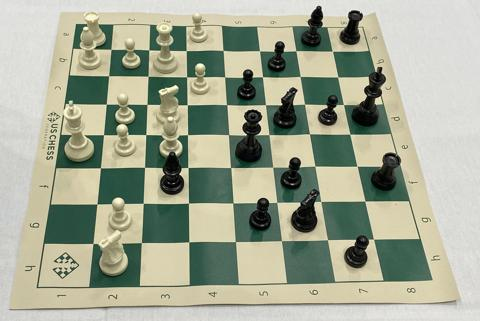xcorner: (259, 70, 270, 82), (101, 97, 112, 109), (95, 161, 106, 173), (319, 195, 330, 207), (329, 46, 340, 57), (293, 45, 304, 56), (256, 45, 267, 56), (219, 44, 230, 55), (182, 44, 193, 55), (144, 43, 155, 54), (106, 43, 117, 54), (335, 71, 346, 82), (297, 71, 308, 82), (221, 70, 232, 81), (182, 70, 193, 81), (143, 69, 154, 80), (103, 69, 114, 80), (341, 99, 352, 110), (302, 98, 313, 109), (263, 98, 274, 109), (223, 98, 234, 109), (183, 98, 194, 109), (142, 98, 153, 109), (347, 128, 358, 139), (307, 128, 318, 139), (266, 128, 277, 139), (225, 128, 236, 139), (183, 128, 194, 139), (141, 128, 152, 139), (98, 128, 109, 139), (354, 160, 365, 171), (313, 161, 324, 172), (270, 161, 281, 172), (227, 161, 238, 172), (184, 161, 195, 172), (140, 161, 151, 172), (362, 195, 373, 206), (274, 196, 285, 207), (230, 196, 241, 207), (184, 197, 195, 208), (138, 197, 149, 208), (92, 198, 103, 209), (371, 233, 382, 244), (325, 234, 336, 245), (279, 234, 290, 245), (232, 235, 243, 246), (185, 236, 196, 247), (137, 236, 148, 247), (88, 237, 99, 248)
